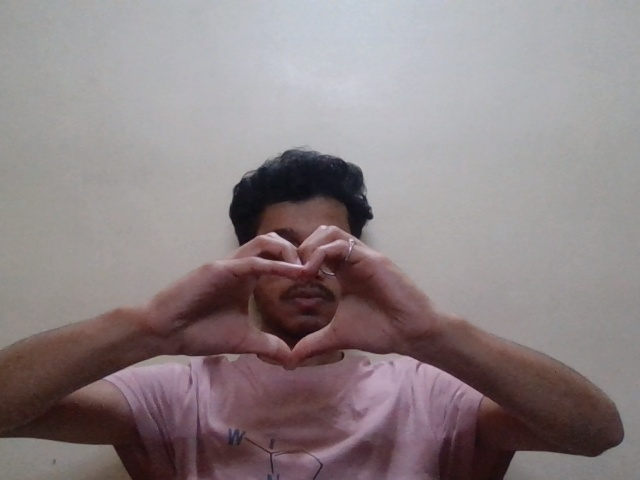silent-voice: (160, 221, 399, 378)
